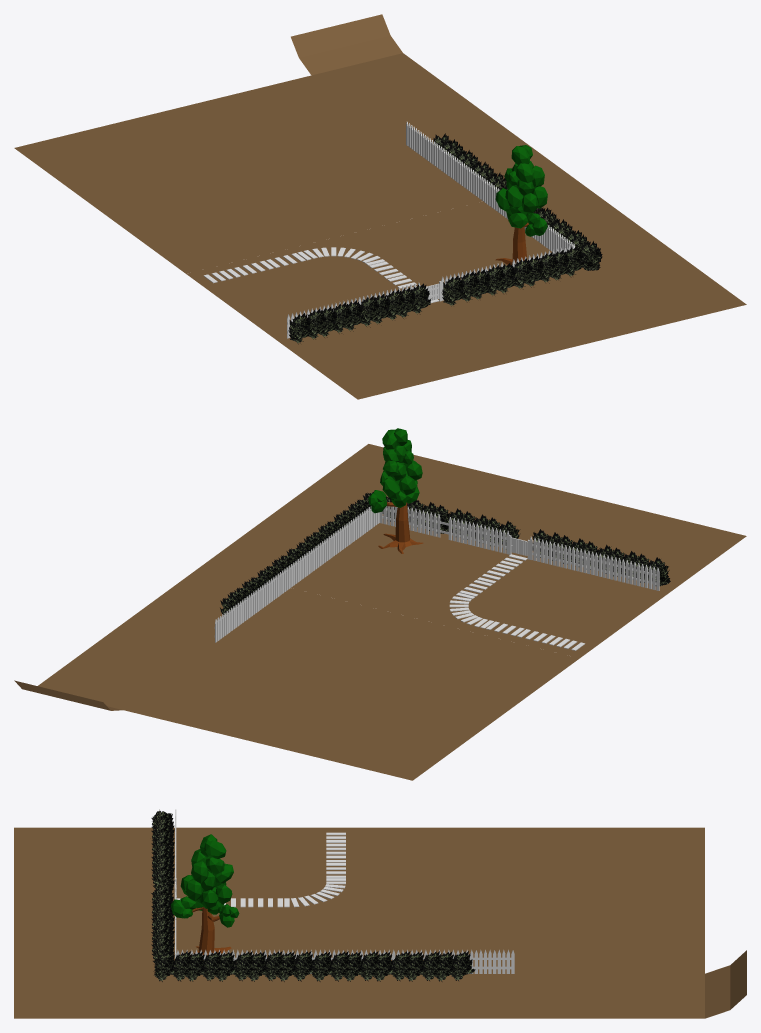
File: AmbienteNoAnim.fbx
3 views of the same model, one above another, from view 1: azimuth 30°, elevation 25°; view 2: azimuth 150°, elevation 25°; view 3: azimuth 270°, elevation 25° (orthographic). The views are drawn at different scales.
Visible parts, largest first — view 1: Ground1.002, Ground1.000, Ground1.001, Ground1.003, Leaves_Icosphere, Fence, Route; view 2: Ground1.002, Ground1.000, Ground1.001, Ground1.003, Fence, Leaves_Icosphere, Fence.002, Fence.001, Route; view 3: Ground1.002, Ground1.000, Ground1.001, Ground1.003, Leaves_Icosphere, Route, Fence, Fir_Tree.009, Fir_Tree.029, Fir_Tree.010, Fir_Tree.000, Fir_Tree.003 (+15 smaller).
Part boxes in pixels (x1,y1,x2,y2): Ground1.002: (14, 75, 482, 273); Ground1.000: (186, 201, 654, 399); Ground1.001: (291, 14, 574, 201); Ground1.003: (541, 179, 746, 326); Leaves_Icosphere: (495, 145, 547, 265); Fence: (406, 121, 574, 253); Route: (203, 247, 439, 303); Ground1.002: (124, 588, 579, 780); Ground1.000: (291, 465, 746, 658); Ground1.001: (14, 566, 268, 710); Ground1.003: (202, 444, 456, 578); Fence: (214, 506, 379, 642); Leaves_Icosphere: (368, 428, 423, 553); Fence.002: (529, 536, 659, 590); Fence.001: (379, 506, 509, 554); Route: (449, 554, 585, 650); Ground1.002: (359, 827, 704, 973); Ground1.000: (14, 827, 359, 973); Ground1.001: (359, 950, 746, 1018); Ground1.003: (14, 973, 359, 1018); Leaves_Icosphere: (171, 834, 239, 955); Route: (176, 832, 345, 907); Fence: (176, 950, 514, 973); Fir_Tree.009: (153, 951, 176, 981); Fir_Tree.029: (450, 951, 475, 980); Fir_Tree.010: (311, 952, 333, 981); Fir_Tree.000: (292, 951, 314, 981); Fir_Tree.003: (234, 951, 255, 981).
Size of the model in its own units: 6893 by 2062 by 11188.
